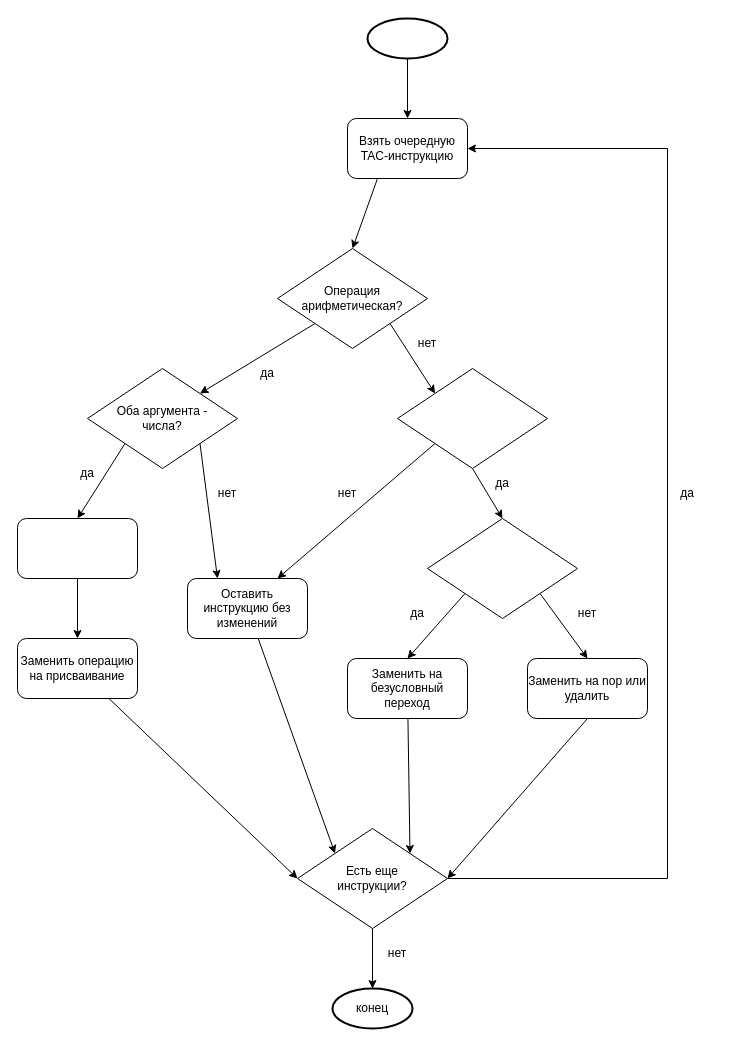
Some shapes in this 735 by 1046 pixel diagram are drawn without their labels. Here are the shapes that lost their labels. From the top down, the centre of each, then its label:
At (x=407, y=38): "начало".
At (x=472, y=418): "Это jfalse с константой?".
At (x=77, y=548): "Вычислить результат".
At (x=502, y=568): "Константа равна 0?".
